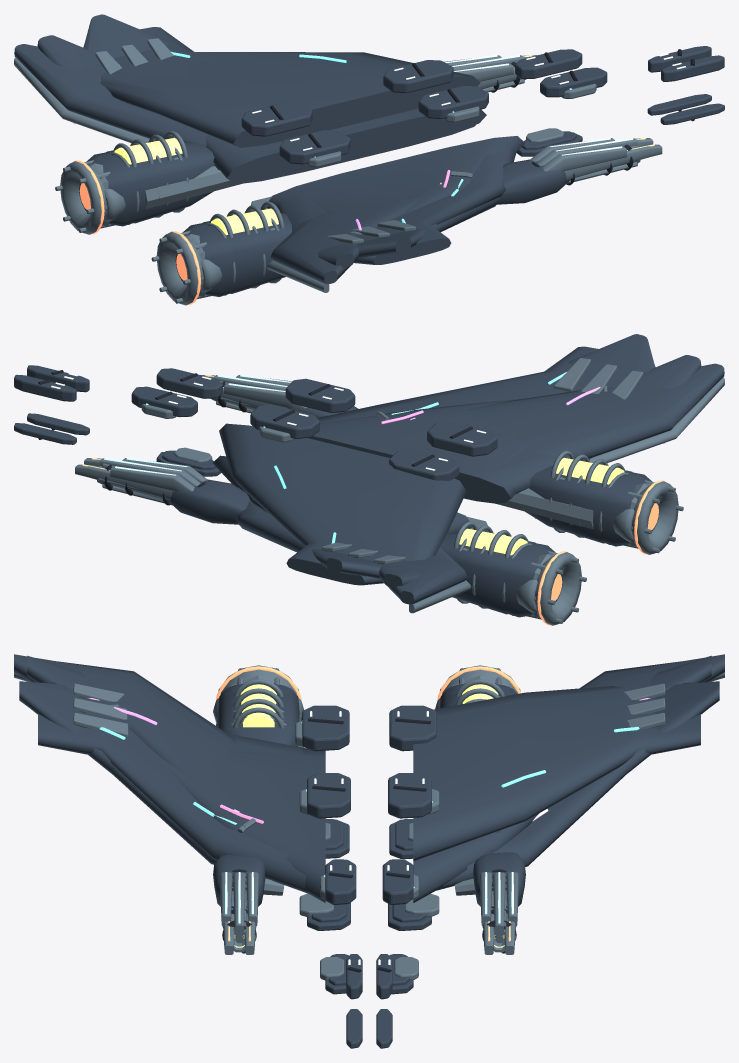
The model's file is wasp.glb.
3 views of the same model, one above another, from view 1: azimuth 30°, elevation 25°; view 2: azimuth 150°, elevation 25°; view 3: azimuth 270°, elevation 25° (orthographic). The views are drawn at different scales.
Visible parts, largest first — view 1: w_vane Fitting gunmetal, w_phantom Fitting gunmetal, w_razor Fitting gunmetal, p_heavy Fitting gunmetal, e_twin Fitting gunmetal, e_nova Brushed fitting edges, w_prism Fitting gunmetal, e_nova Fitting gunmetal, m_array Brushed fitting edges, e_twin Brushed fitting edges, m_heavy Fitting gunmetal, w_phantom Brushed fitting edges (+10 smaller); view 2: w_vane Fitting gunmetal, w_phantom Fitting gunmetal, p_heavy Fitting gunmetal, w_razor Fitting gunmetal, e_twin Fitting gunmetal, e_nova Brushed fitting edges, w_prism Fitting gunmetal, m_array Brushed fitting edges, e_nova Fitting gunmetal, m_heavy Fitting gunmetal, e_twin Brushed fitting edges, w_vane Brushed fitting edges (+10 smaller); view 3: w_vane Fitting gunmetal, w_razor Fitting gunmetal, p_heavy Fitting gunmetal, w_phantom Fitting gunmetal, w_prism Fitting gunmetal, m_array Brushed fitting edges, w_vane Brushed fitting edges, p_light Brushed fitting edges, m_heavy Fitting gunmetal, e_fusion Brushed fitting edges, e_twin Fitting gunmetal, m_siege Brushed fitting edges (+9 smaller).
Part boxes in pixels (left/top/right/bottom): w_vane Fitting gunmetal: left=100, top=27, right=516, bottom=264; w_phantom Fitting gunmetal: left=14, top=44, right=479, bottom=284; w_razor Fitting gunmetal: left=37, top=35, right=524, bottom=267; p_heavy Fitting gunmetal: left=241, top=46, right=724, bottom=213; e_twin Fitting gunmetal: left=106, top=142, right=292, bottom=293; e_nova Brushed fitting edges: left=55, top=160, right=210, bottom=305; w_prism Fitting gunmetal: left=83, top=14, right=501, bottom=258; e_nova Fitting gunmetal: left=79, top=152, right=234, bottom=296; m_array Brushed fitting edges: left=444, top=55, right=637, bottom=171; e_twin Brushed fitting edges: left=104, top=157, right=275, bottom=292; m_heavy Fitting gunmetal: left=497, top=159, right=570, bottom=204; w_phantom Brushed fitting edges: left=14, top=57, right=329, bottom=292; w_vane Fitting gunmetal: left=219, top=346, right=624, bottom=585; w_phantom Fitting gunmetal: left=387, top=363, right=724, bottom=604; p_heavy Fitting gunmetal: left=14, top=365, right=497, bottom=533; w_razor Fitting gunmetal: left=213, top=355, right=701, bottom=588; e_twin Fitting gunmetal: left=440, top=465, right=632, bottom=614; e_nova Brushed fitting edges: left=527, top=480, right=683, bottom=625; w_prism Fitting gunmetal: left=231, top=334, right=655, bottom=578; m_array Brushed fitting edges: left=99, top=375, right=306, bottom=491; e_nova Fitting gunmetal: left=503, top=472, right=659, bottom=617; m_heavy Fitting gunmetal: left=166, top=406, right=358, bottom=524; e_twin Brushed fitting edges: left=463, top=477, right=634, bottom=612; w_vane Brushed fitting edges: left=322, top=358, right=643, bottom=564; w_vane Fitting gunmetal: left=38, top=686, right=700, bottom=893; w_razor Fitting gunmetal: left=27, top=655, right=711, bottom=902; p_heavy Fitting gunmetal: left=302, top=705, right=436, bottom=1048; w_phantom Fitting gunmetal: left=14, top=654, right=724, bottom=783; w_prism Fitting gunmetal: left=19, top=681, right=719, bottom=890; m_array Brushed fitting edges: left=220, top=872, right=518, bottom=935; w_vane Brushed fitting edges: left=73, top=683, right=665, bottom=736; p_light Brushed fitting edges: left=295, top=721, right=439, bottom=980; m_heavy Fitting gunmetal: left=213, top=852, right=525, bottom=906; e_fusion Brushed fitting edges: left=230, top=675, right=508, bottom=728; e_twin Fitting gunmetal: left=217, top=693, right=510, bottom=746; m_siege Brushed fitting edges: left=223, top=886, right=515, bottom=954.
Size of the model in its own units: 59.62 by 11.33 by 53.62.
